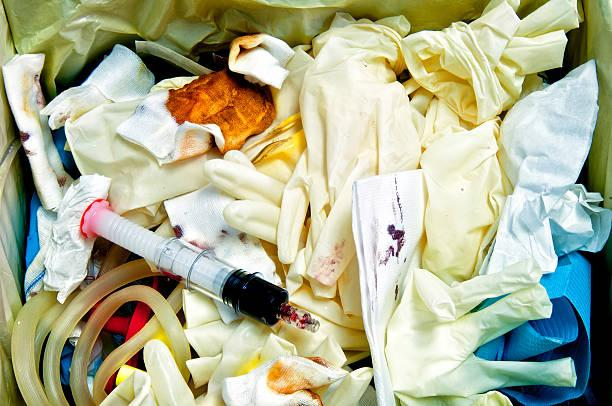Glove: (479, 61, 611, 273), (386, 261, 575, 397), (402, 0, 577, 123), (2, 54, 73, 211), (41, 44, 154, 128), (223, 356, 347, 405), (228, 33, 294, 88)
Syringe: (81, 199, 318, 331)
